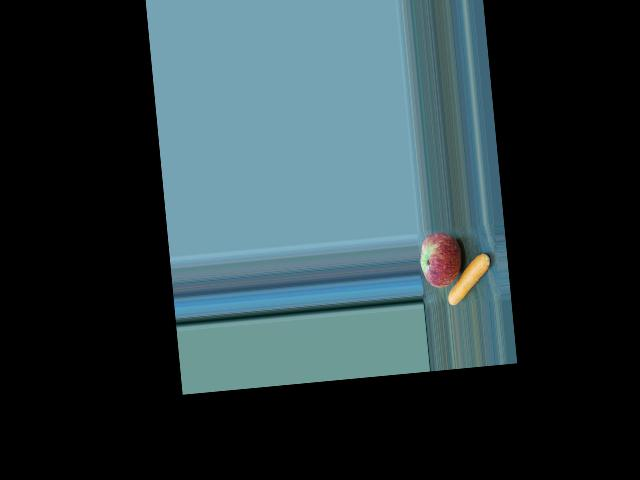carrot: (440, 246, 495, 305)
